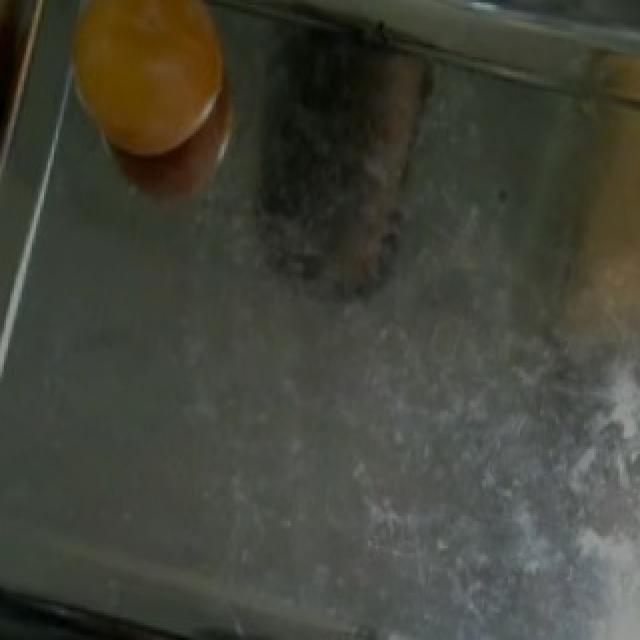Fruit: (46, 0, 248, 179)
